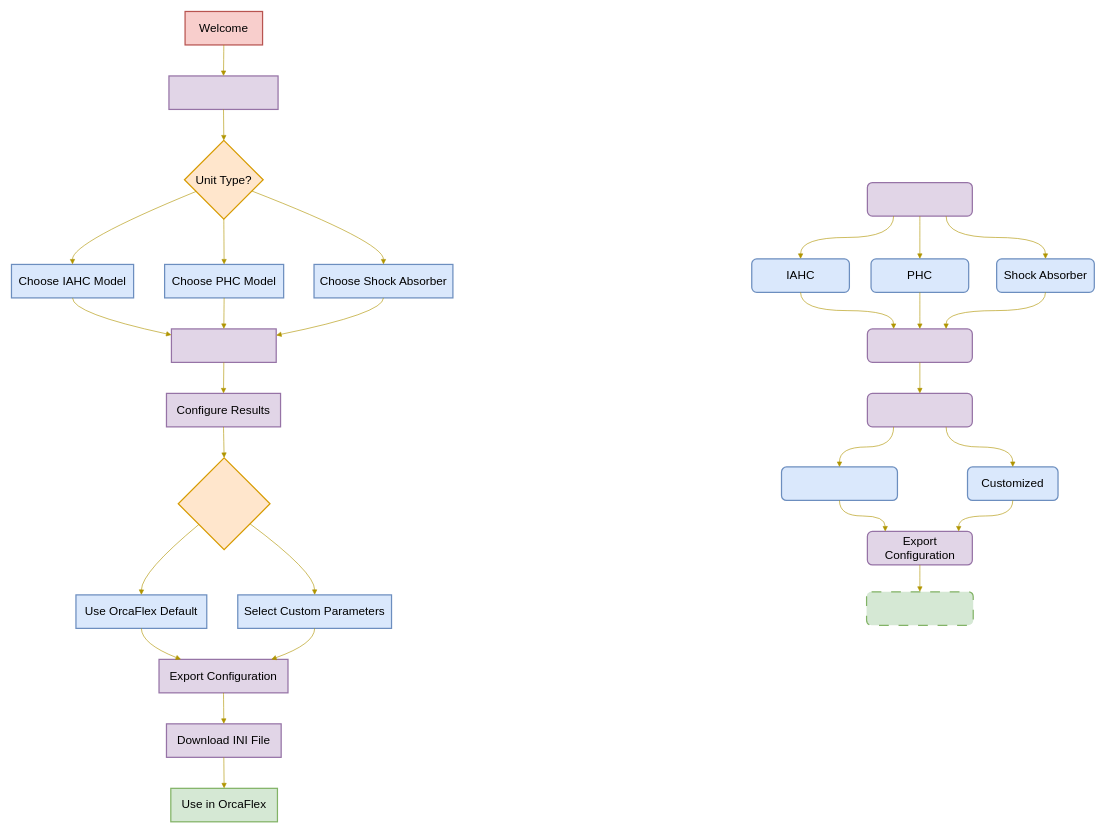
The diagram is 1105 pixels wide and 833 high, and some of its shapes have lost their labels. The shapes that lost their labels are listed below. From the top down, each one's centre as x and y in pixels, then its label:
(223,92): Select Unit Type
(919,199): Select Unit
(223,345): Set Parameters
(919,345): Setup Parameters
(919,409): Select Results
(223,503): Results Type?
(839,483): OrcaFlex Defaults
(920,608): Use .ini file in OrcaFlex
